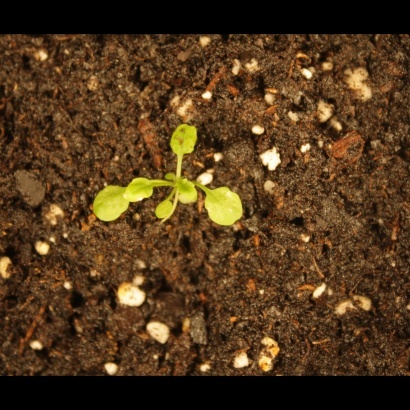leaf: (202, 184, 250, 232), (88, 183, 136, 225), (166, 121, 202, 157), (122, 176, 155, 204), (174, 175, 202, 208), (153, 197, 176, 220)
